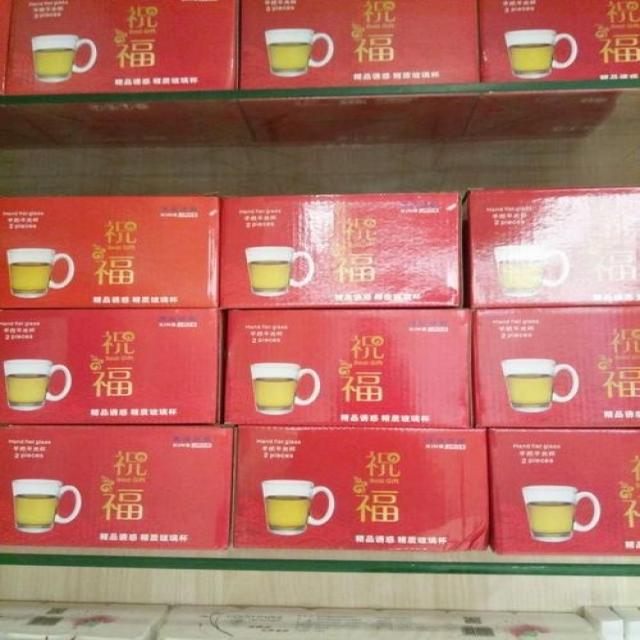box: (236, 1, 486, 146), (6, 0, 255, 145), (230, 425, 492, 550), (223, 309, 477, 426), (1, 424, 235, 550), (220, 193, 462, 307), (458, 0, 639, 144), (0, 308, 221, 424), (0, 195, 223, 308), (461, 187, 639, 304), (474, 307, 639, 428), (488, 428, 639, 554), (0, 2, 61, 150)
